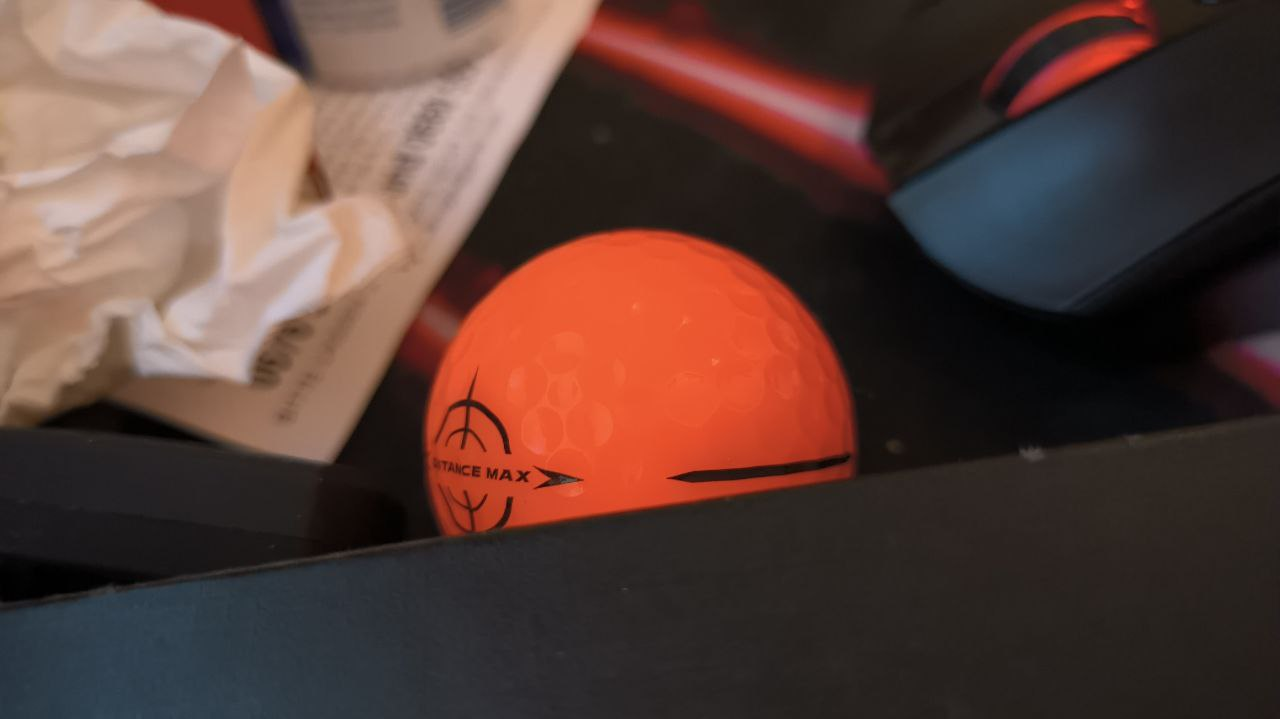orange_ball: (425, 228, 856, 538)
